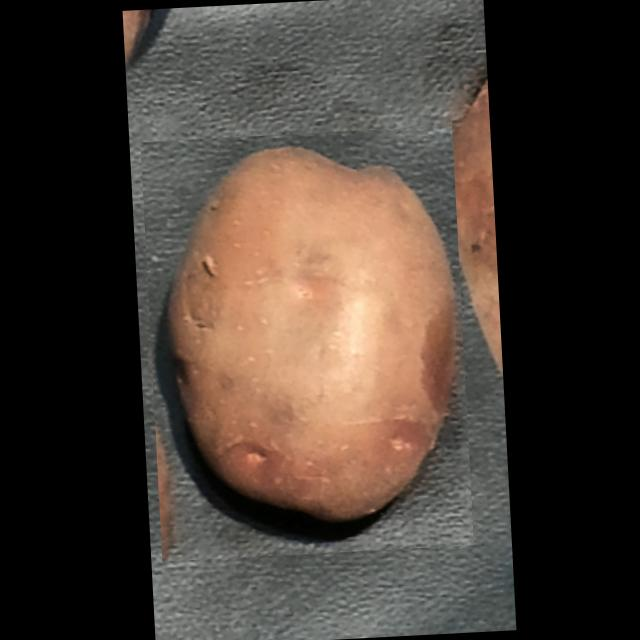Diseased-fungal potato: (140, 124, 474, 560)
